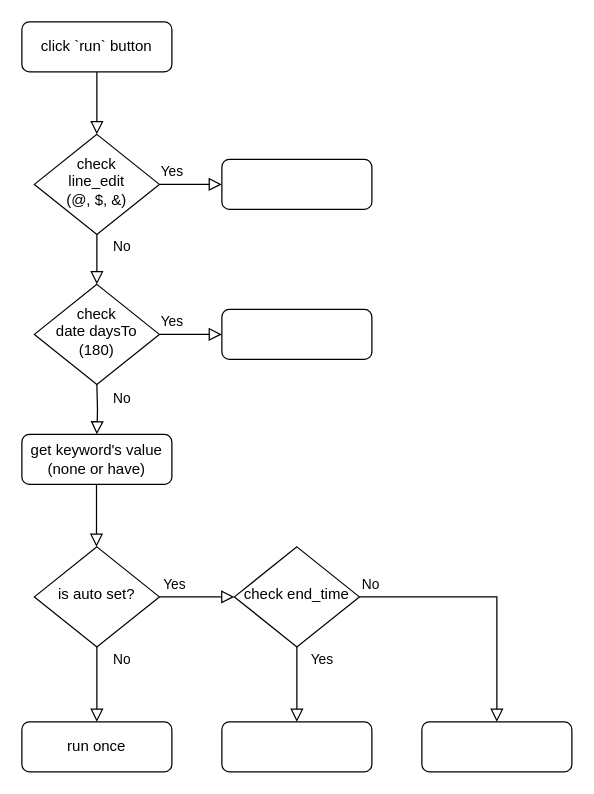
Some shapes in this 594 by 794 pixel diagram are drawn without their labels. Here are the shapes that lost their labels. From the top down, the centre of each, then its label:
the point at 296,183: Warn not to include
the point at 296,333: Warn to set date again
the point at 296,746: auto run until end_time
the point at 496,746: auto run until 18:00
